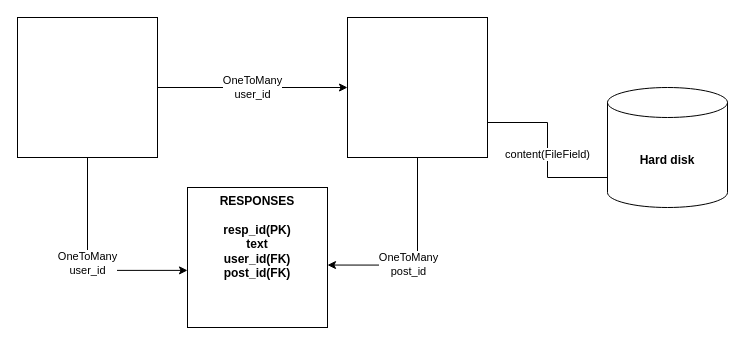
The diagram is 745 pixels wide and 345 high, and some of its shapes have lost their labels. The centre of each missing label's shape, as x and y in pixels:
"POSTS post_id(PK) user_id(FK) heading category content text" belongs at (x=417, y=87).
"USERS django Model user_id (PK)" belongs at (x=87, y=87).
